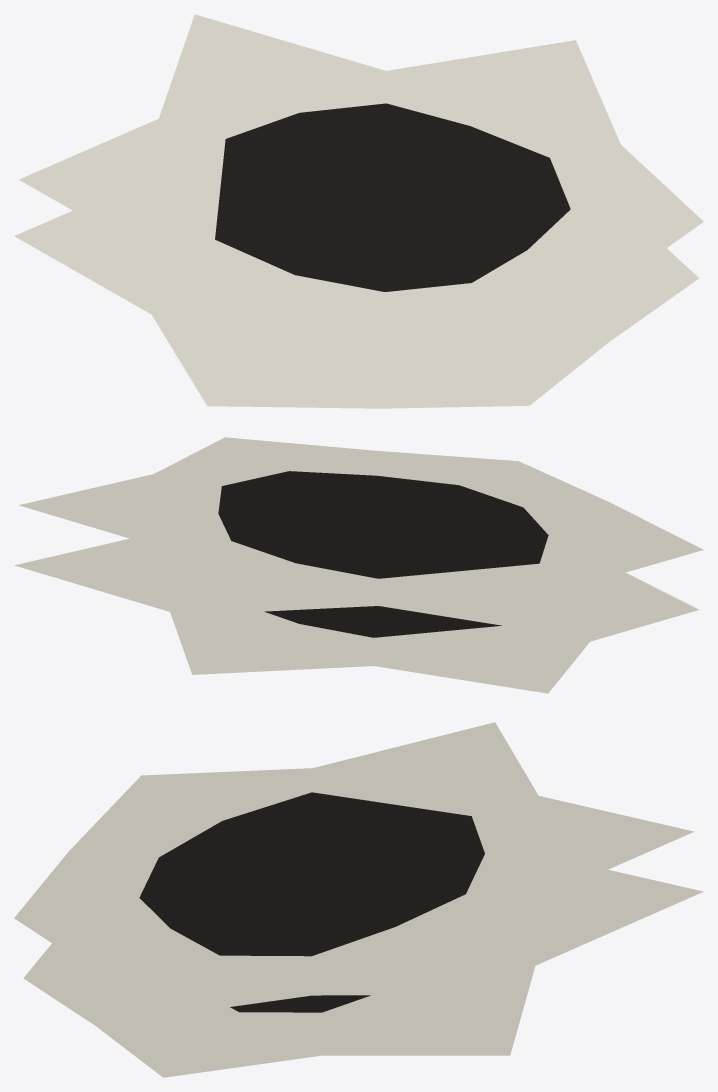
Rendered from hole_stand_00.obj.
3 views of the same model, one above another, from view 1: azimuth 30°, elevation 25°; view 2: azimuth 150°, elevation 25°; view 3: azimuth 270°, elevation 25° (orthographic). The views are drawn at different scales.
Size of the model in its own units: 0.0523 by 0.0131 by 0.0556.
